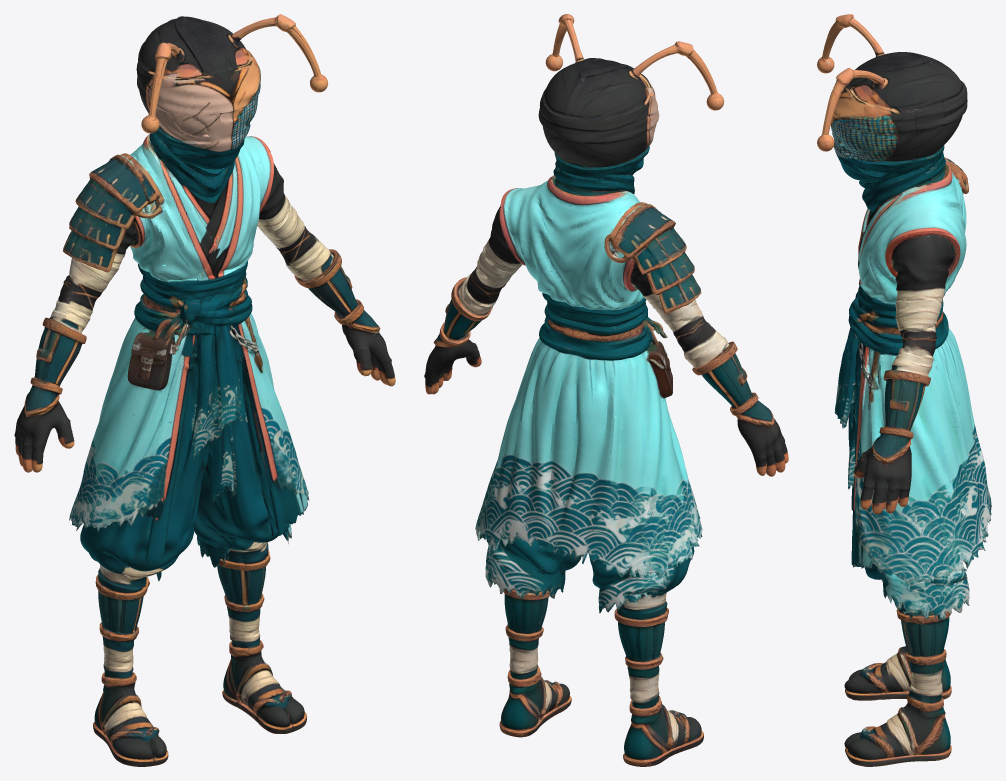
File: rebel_1555_static_source_wokou_v4_multiview.glb
3 views of the same model, side by side, from view 1: azimuth 30°, elevation 25°; view 2: azimuth 150°, elevation 25°; view 3: azimuth 270°, elevation 25° (orthographic). The views are drawn at different scales.
Visible parts, largest first — view 1: Mesh_0; view 2: Mesh_0; view 3: Mesh_0.
Boxes of the visible parts, bbox=[...] form: Mesh_0: bbox=[14, 14, 395, 766]; Mesh_0: bbox=[424, 14, 788, 766]; Mesh_0: bbox=[817, 14, 991, 766].
Size of the model in its own units: 1.02 by 1.9 by 0.44.
Materials: 1 (1 with a texture image).
